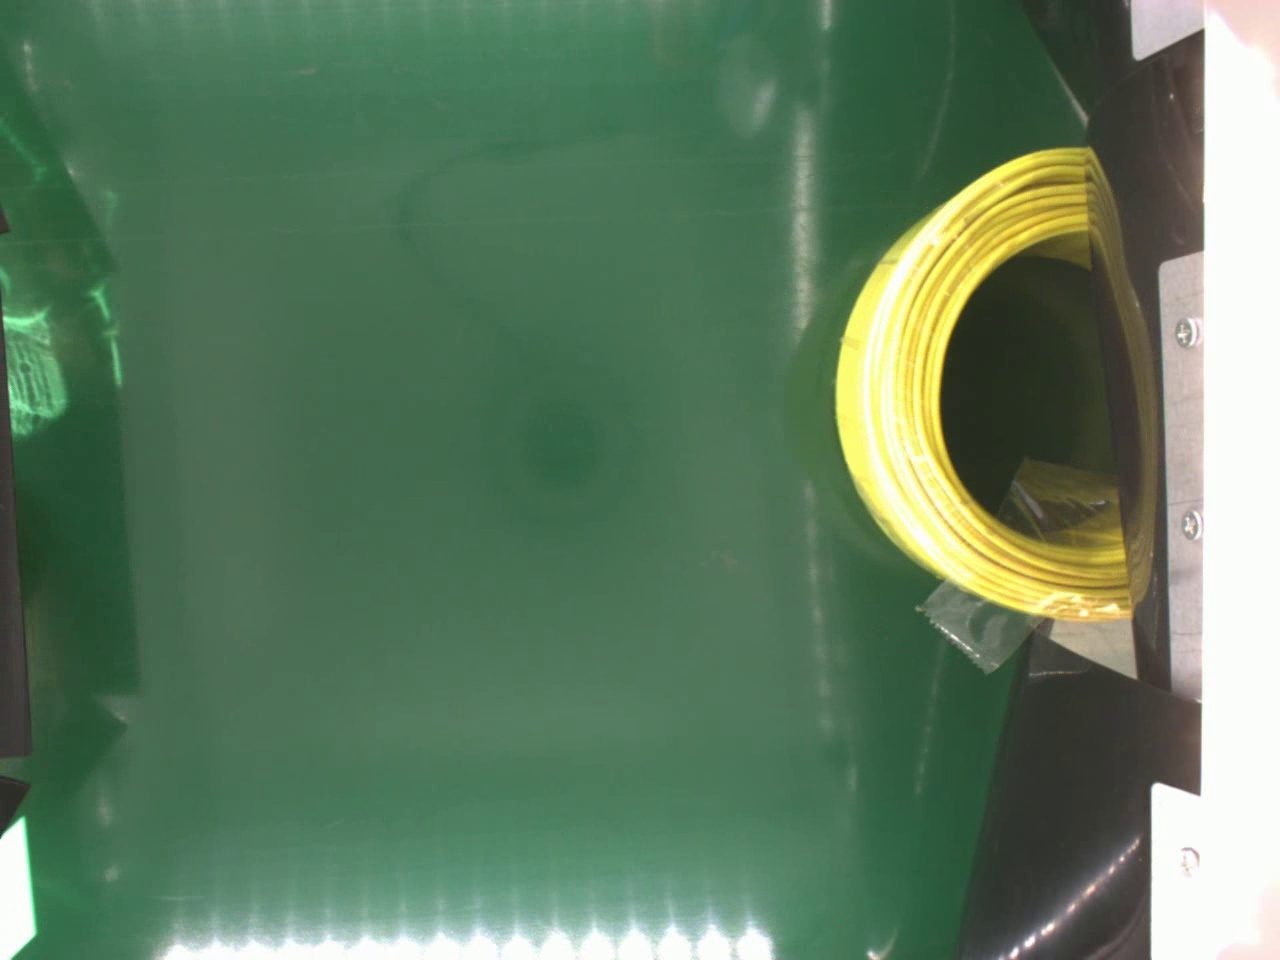yellow: (829, 147, 1146, 618)
